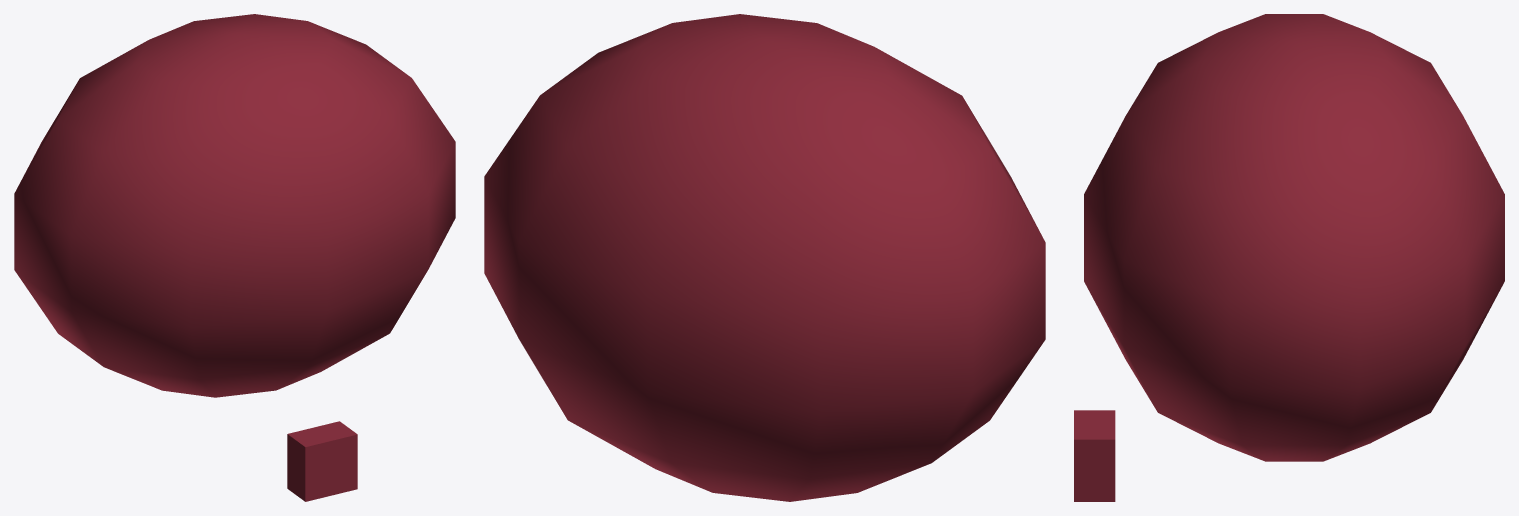
Rendered from person-kerchief.glb.
3 renders of one model, left to right at view 1: azimuth 30°, elevation 25°; view 2: azimuth 150°, elevation 25°; view 3: azimuth 270°, elevation 25°, orthographic. The views are drawn at different scales.
Visible parts, largest first — view 1: 00_paint0_r320, 01_paint0_noshadow_r110; view 2: 00_paint0_r320; view 3: 00_paint0_r320, 01_paint0_noshadow_r110.
Part boxes in pixels (x1,y1,x2,y2): 00_paint0_r320: (14, 14, 455, 397); 01_paint0_noshadow_r110: (287, 421, 357, 501); 00_paint0_r320: (484, 14, 1045, 501); 00_paint0_r320: (1084, 14, 1504, 461); 01_paint0_noshadow_r110: (1074, 410, 1115, 501).
Size of the model in its own units: 0.7344 by 0.7135 by 0.6256.
